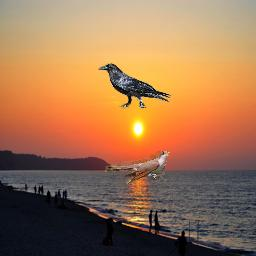Crow: (98, 63, 174, 110)
Cuckoo: (105, 151, 170, 184)
